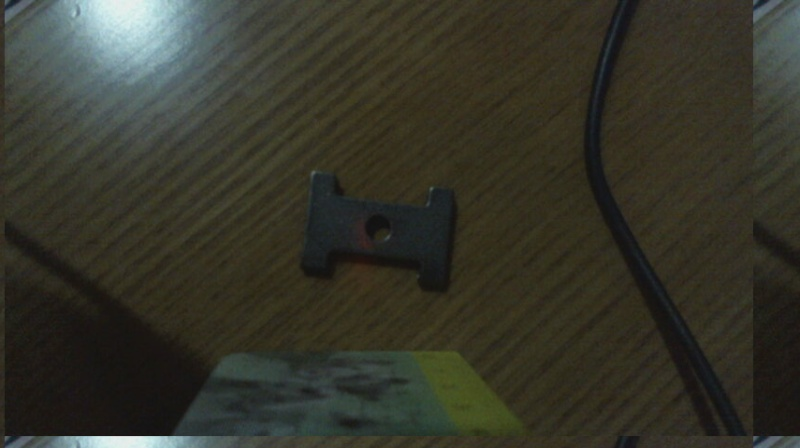O002: (301, 170, 457, 293)
